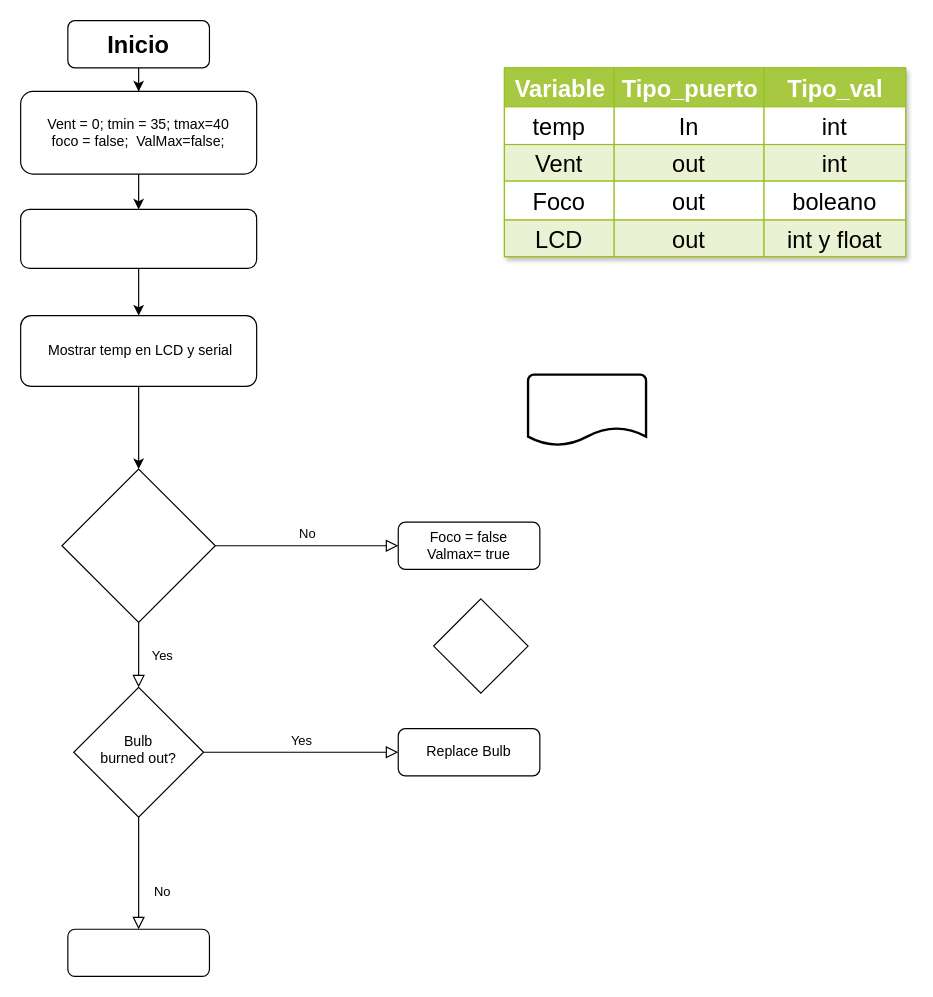
Image size: 933x997. Some labels were removed from this diagram. Here are the shapes that lost their labels. From the top down, the centre of each, then its label:
At point 138,238: "temp=Leertemp();".
At point 138,545: "temp< tmax && ValMAx=false".
At point 138,952: "Repair Lamp".
